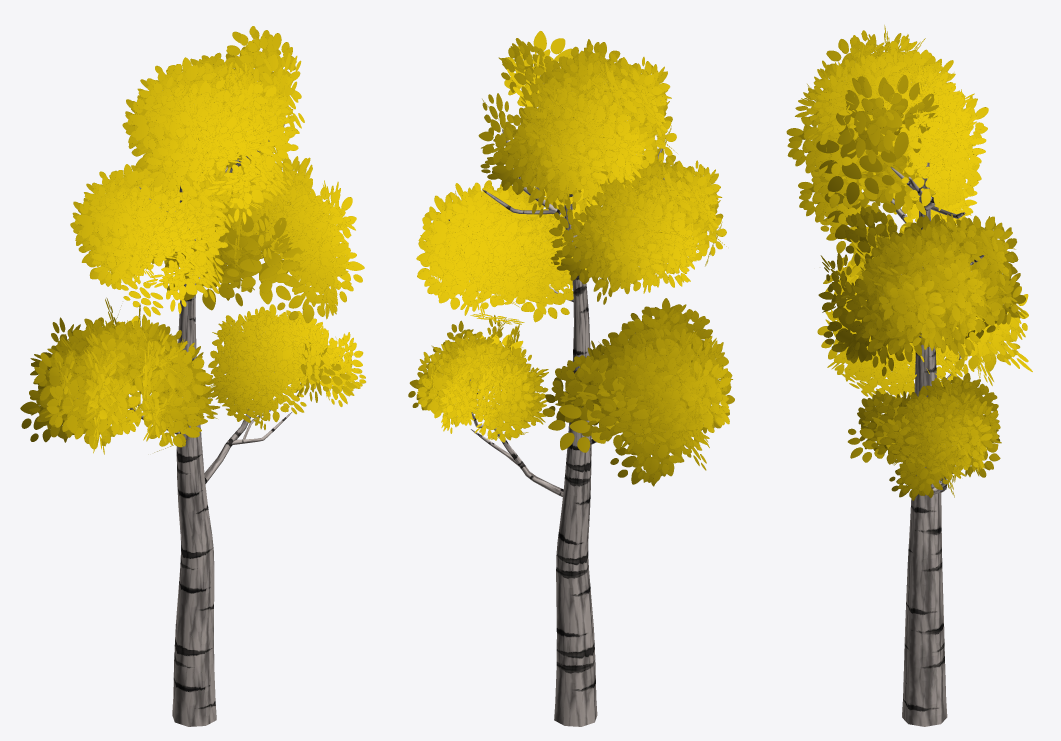
Rendered from texturedBirch.glb.
The picture shows the model from 3 angles, left to right: view 1: azimuth 30°, elevation 25°; view 2: azimuth 150°, elevation 25°; view 3: azimuth 270°, elevation 25°; orthographic projection. The views are drawn at different scales.
Visible parts, largest first — view 1: BirchTree_1; view 2: BirchTree_1; view 3: BirchTree_1.
Part boxes in pixels (x1=…): BirchTree_1: x1=20, y1=26, x2=365, y2=726; BirchTree_1: x1=408, y1=31, x2=734, y2=726; BirchTree_1: x1=786, y1=25, x2=1032, y2=726.
Size of the model in its own units: 271 by 545 by 194.
2 materials, 2 textured.
